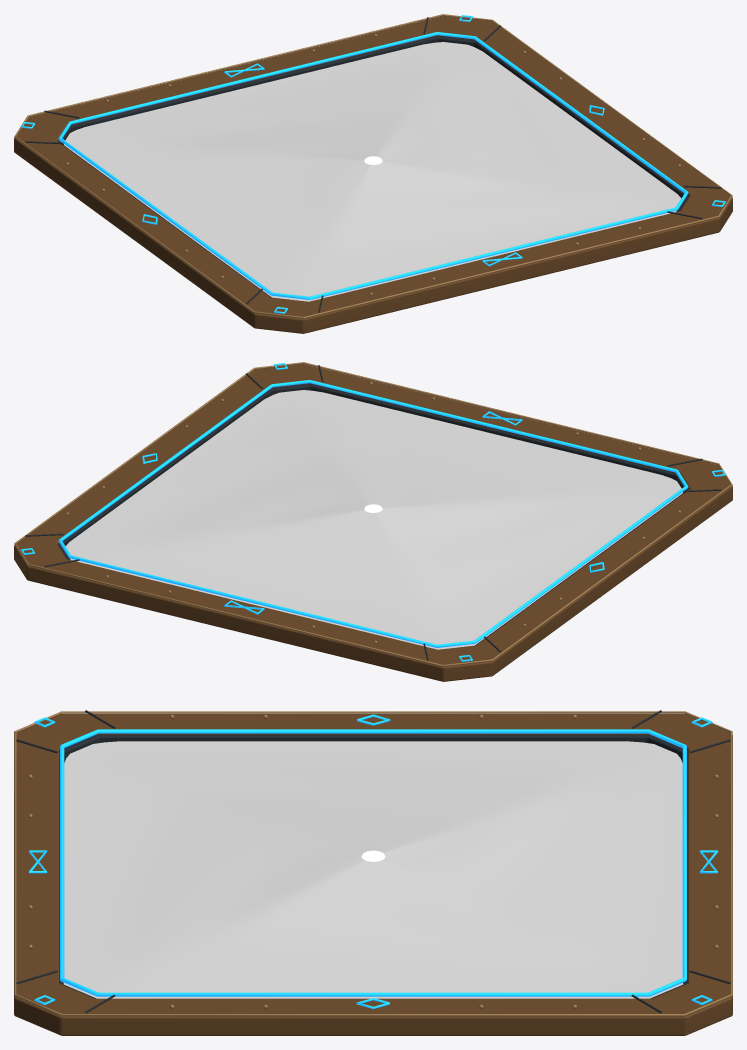
File: teleport_device.glb
3 renders of one model, top to bottom at view 1: azimuth 30°, elevation 25°; view 2: azimuth 150°, elevation 25°; view 3: azimuth 270°, elevation 25°, orthographic. The views are drawn at different scales.
Parts seen in each view (by area): view 1: teleport_out_surface, teleport_frame; view 2: teleport_out_surface, teleport_frame; view 3: teleport_out_surface, teleport_frame.
Part boxes in pixels (x1,y1,x2,y2): teleport_out_surface: (64, 42, 681, 301); teleport_frame: (14, 14, 732, 333); teleport_out_surface: (65, 390, 682, 649); teleport_frame: (14, 362, 732, 681); teleport_out_surface: (64, 741, 682, 998); teleport_frame: (14, 710, 732, 1035).
Size of the model in its own units: 1 by 0.1281 by 1.
